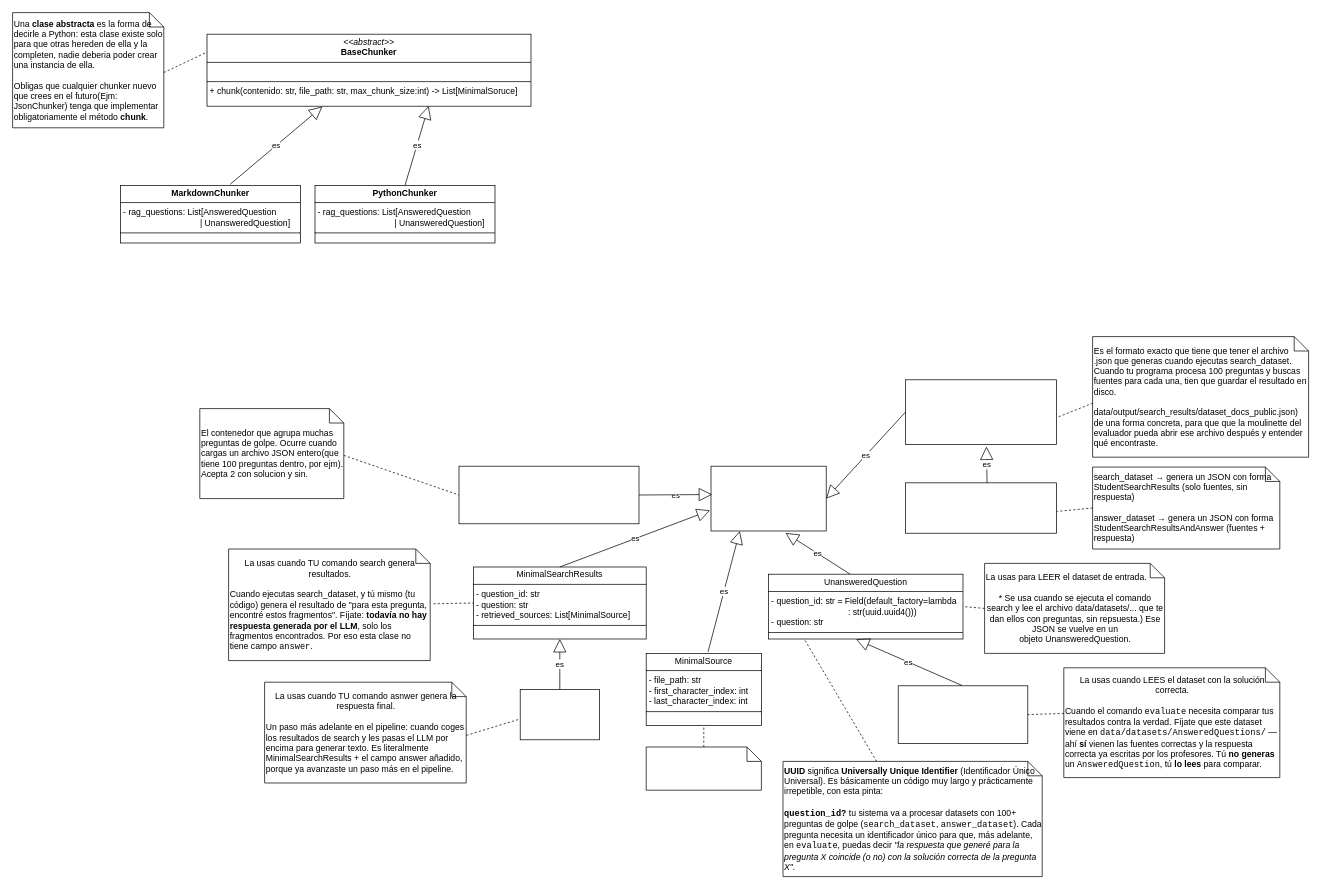
This 1321x889 diagram has some shape labels left out. The shapes that lost their labels are listed below. From the top down, each one's box as (x1, y1, x2, y2) in pixels, then its label:
(905, 379, 1057, 445): StudentSearchResults - search_results: List[ MinimalSearchResults] - k: int
(458, 465, 639, 524): RagDataset - rag_questions: List[AnsweredQuestion | UnansweredQuestion]
(710, 465, 826, 531): BaseModel + field: Type + method(): Type
(905, 482, 1057, 533): StudentSearchResultsAndAnswer - search_results: List[MinimalAnswer]
(519, 689, 599, 740): MinimalAnswer - answer: str
(897, 685, 1028, 743): AnsweredQuestion - sources: List[MinimalSource] - answer: str
(645, 746, 761, 790): La pieza más pequeña, se usa en TODOS los pasos a partir de search
